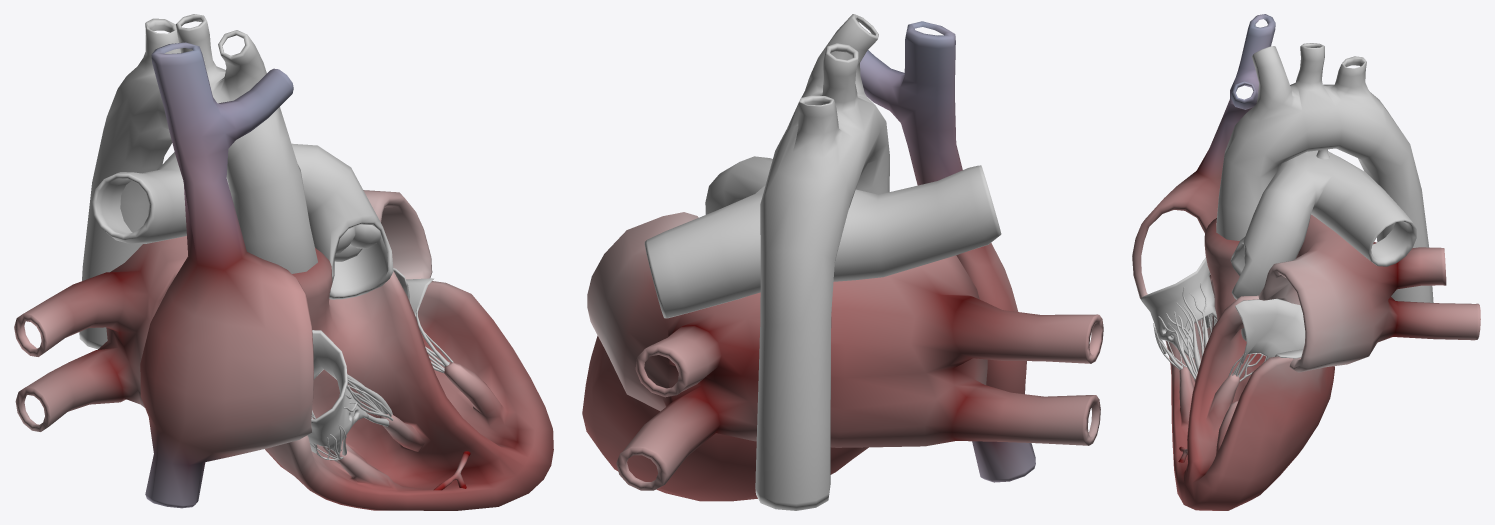
File: coracao.glb
3 renders of one model, left to right at view 1: azimuth 30°, elevation 25°; view 2: azimuth 150°, elevation 25°; view 3: azimuth 270°, elevation 25°, orthographic. The views are drawn at different scales.
Visible parts, largest first — view 1: Coração - veias_013, Coração - retopo_001, Artéria Aorta_006, Coração - veias_015, Artéria Pulmonar_017, Circle_004, Vert_018, Artéria Pulmonar_018, Circle_005; view 2: Coração - veias_015, Artéria Aorta_006, Artéria Pulmonar_017, Coração - veias_013, Coração - retopo_001; view 3: Coração - retopo_001, Artéria Aorta_006, Coração - veias_015, Artéria Pulmonar_017, Coração - veias_013, Circle_005, Circle_004, Vert_018.
Boxes of the visible parts, x1,y1,x2,y2 form: Coração - veias_013: [140, 42, 313, 508]; Coração - retopo_001: [265, 248, 553, 510]; Artéria Aorta_006: [79, 14, 317, 349]; Coração - veias_015: [14, 190, 432, 431]; Artéria Pulmonar_017: [92, 143, 393, 299]; Circle_004: [307, 330, 368, 455]; Vert_018: [310, 374, 393, 460]; Artéria Pulmonar_018: [334, 224, 380, 261]; Circle_005: [393, 268, 433, 316]; Coração - veias_015: [587, 212, 1103, 490]; Artéria Aorta_006: [755, 14, 889, 510]; Artéria Pulmonar_017: [644, 156, 1001, 318]; Coração - veias_013: [860, 21, 1035, 482]; Coração - retopo_001: [582, 335, 868, 501]; Coração - retopo_001: [1165, 218, 1334, 510]; Artéria Aorta_006: [1216, 43, 1433, 302]; Coração - veias_015: [1258, 214, 1480, 372]; Artéria Pulmonar_017: [1230, 150, 1416, 299]; Coração - veias_013: [1132, 14, 1275, 299]; Circle_005: [1235, 298, 1305, 364]; Circle_004: [1141, 257, 1217, 358]; Vert_018: [1153, 282, 1217, 379].
Bounding box in the file's own units: 198 × 188 × 156.
